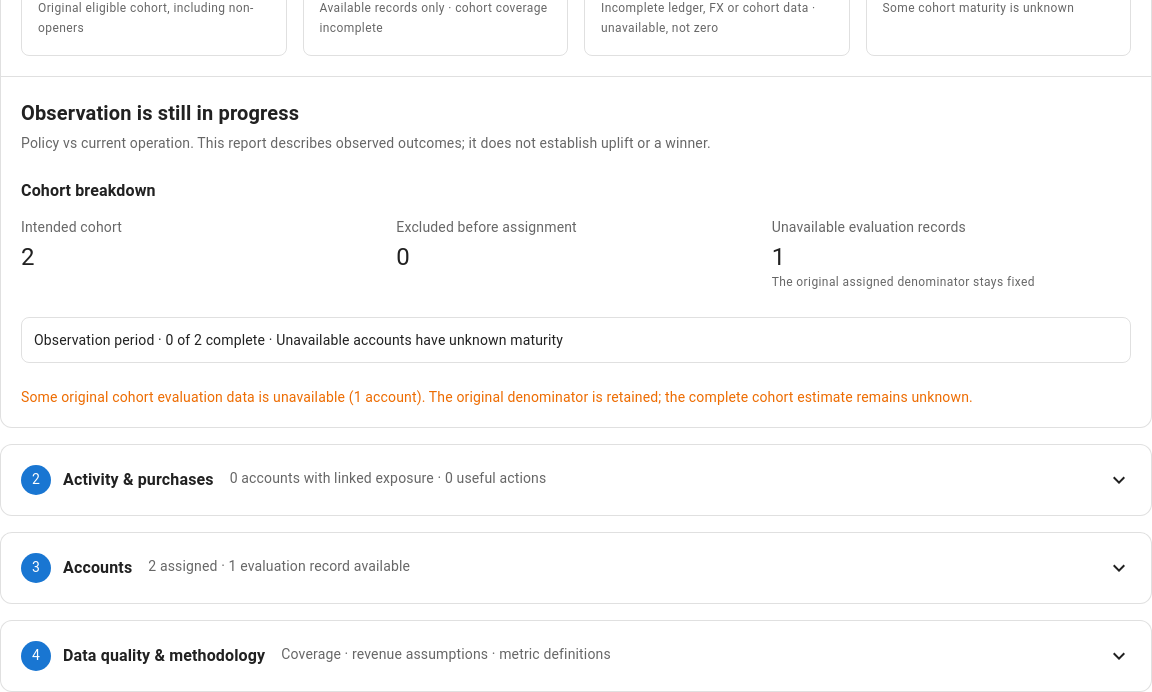
Test case: groups methodology into named cards and labeled metric rules without losing source definitions
(page scrolled)
Click the heading "Data quality & methodology" at (576, 656), box left=21, top=641, right=1131, bottom=671
(page scrolled)
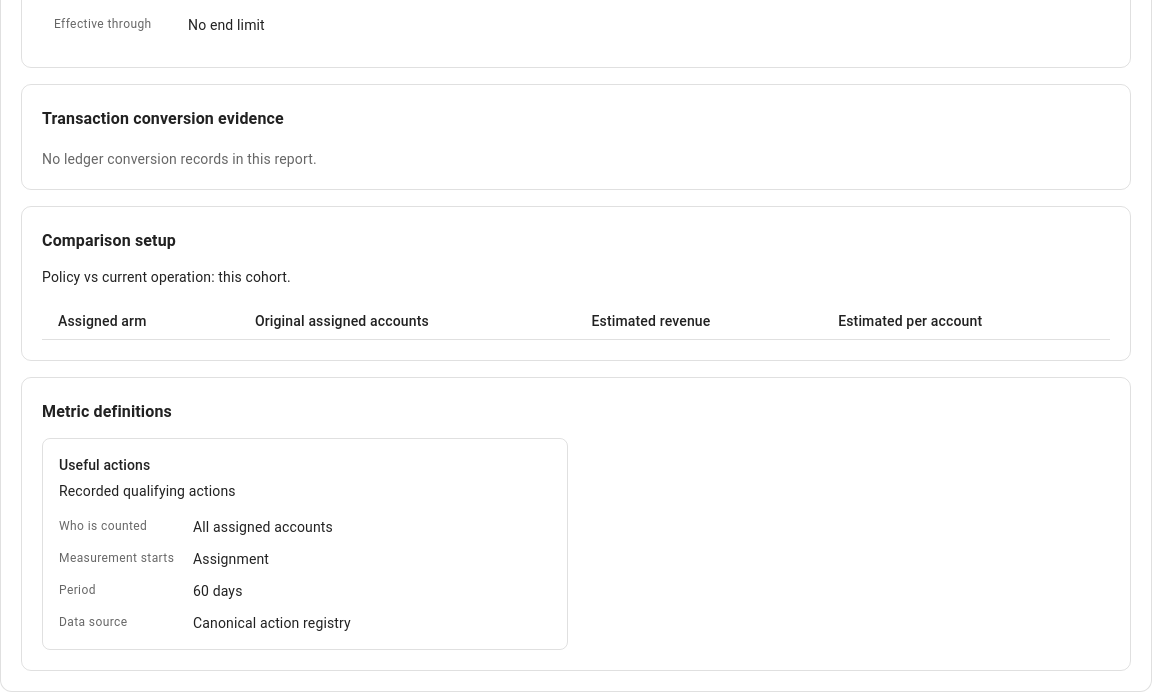
Check: the heading "Transaction conversion evidence" is shown, box left=42, top=109, right=284, bottom=128
Check: the heading "Comparison setup" is shown, box left=42, top=231, right=176, bottom=250
Check: the heading "Metric definitions" is shown, box left=42, top=402, right=172, bottom=421
